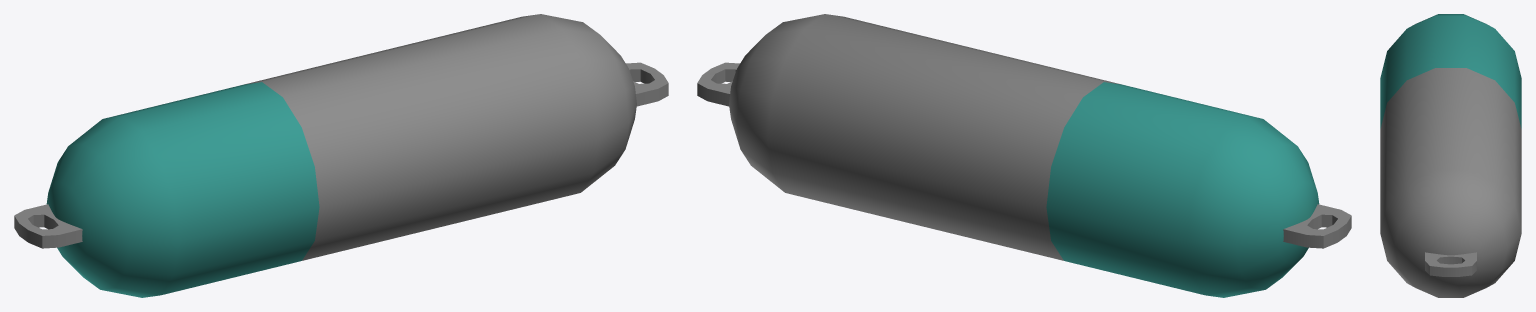
Rendered from prop_22.FBX.
3 views of the same model, side by side, from view 1: azimuth 30°, elevation 25°; view 2: azimuth 150°, elevation 25°; view 3: azimuth 270°, elevation 25° (orthographic). The views are drawn at different scales.
Visible parts, largest first — view 1: prop_22; view 2: prop_22; view 3: prop_22.
Part boxes in pixels (x1=…): prop_22: x1=14, y1=14, x2=668, y2=297; prop_22: x1=697, y1=14, x2=1351, y2=297; prop_22: x1=1380, y1=14, x2=1521, y2=297.
Bounding box in the file's own units: 42.42 × 10.61 × 10.88.
